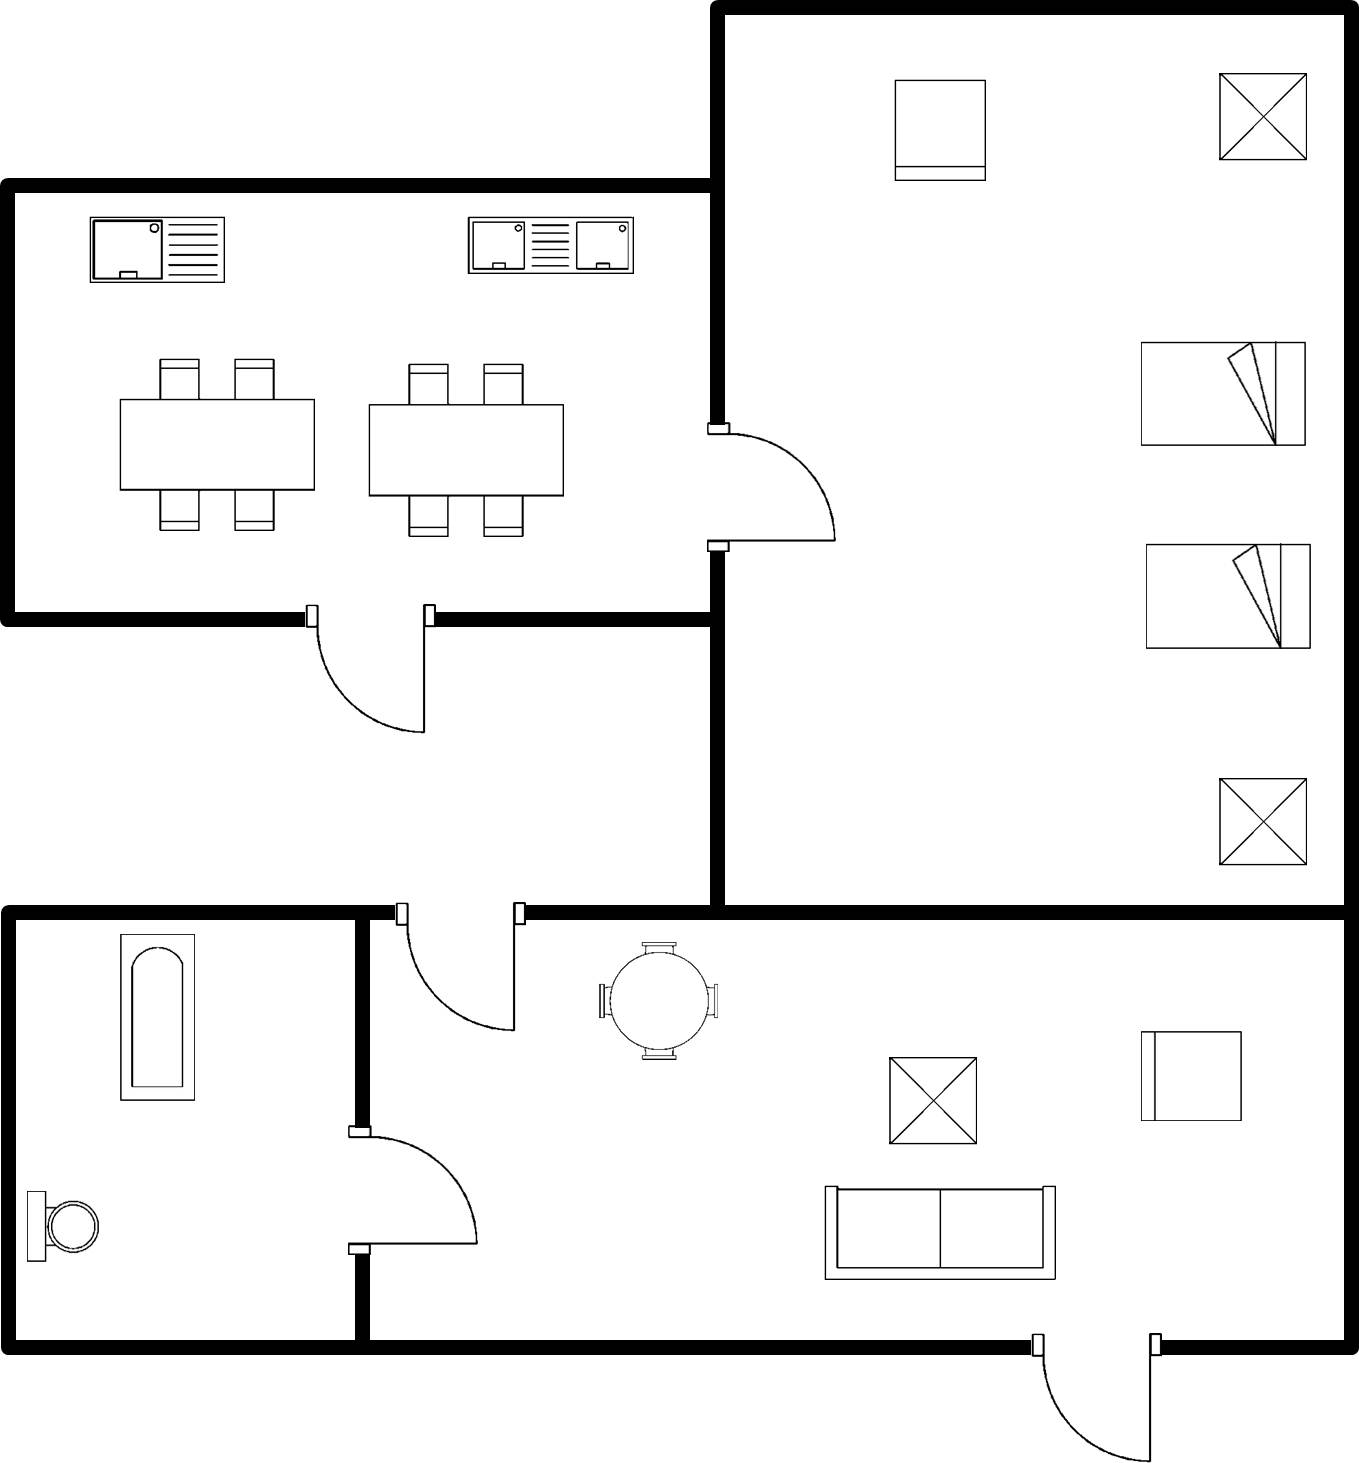bed: (1129, 325, 1319, 461), (1136, 533, 1323, 663)
coffee_table: (876, 1045, 989, 1160), (1204, 768, 1317, 877), (1209, 61, 1317, 175)
dining_table: (357, 353, 576, 551), (110, 350, 321, 543)
large_sofa: (813, 1178, 1069, 1294), (17, 1177, 109, 1275)
round_table: (584, 931, 734, 1075)
sink: (79, 205, 243, 298)
small_sofa: (1130, 1018, 1256, 1140), (886, 70, 993, 194)
tub: (107, 924, 211, 1114)
twin_sink: (459, 205, 643, 287)
